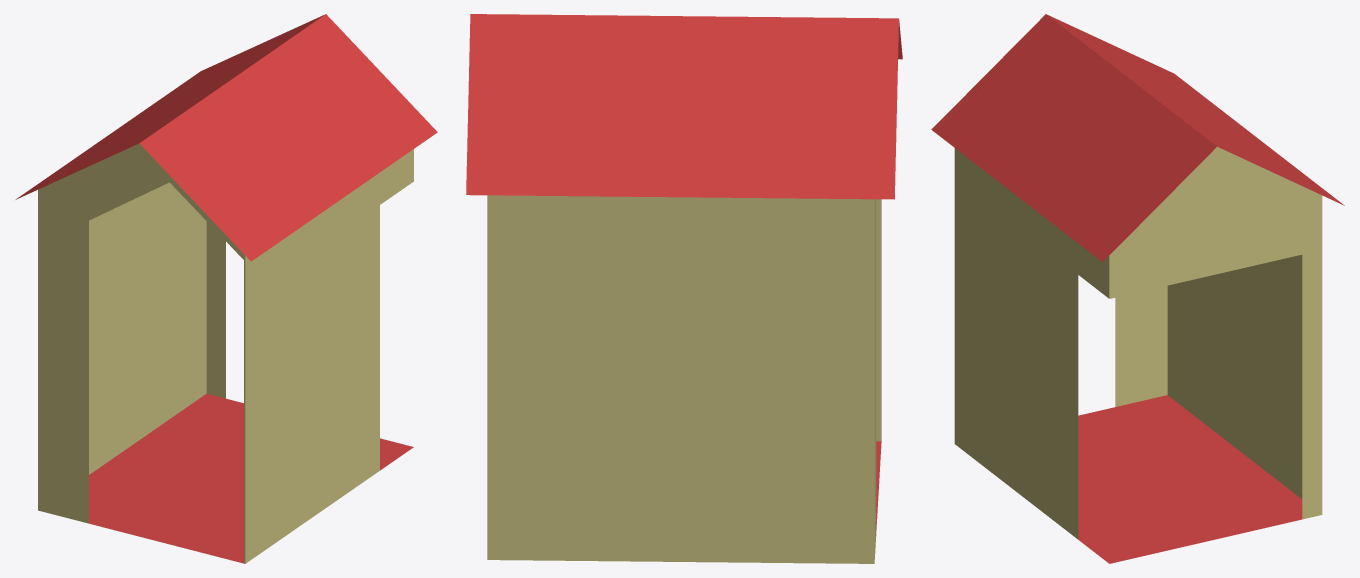
3 renders of one model, left to right at view 1: azimuth 30°, elevation 25°; view 2: azimuth 150°, elevation 25°; view 3: azimuth 270°, elevation 25°, orthographic. The views are drawn at different scales.
Bounding box in the file's own units: 12.9 × 11.97 × 12.77.
